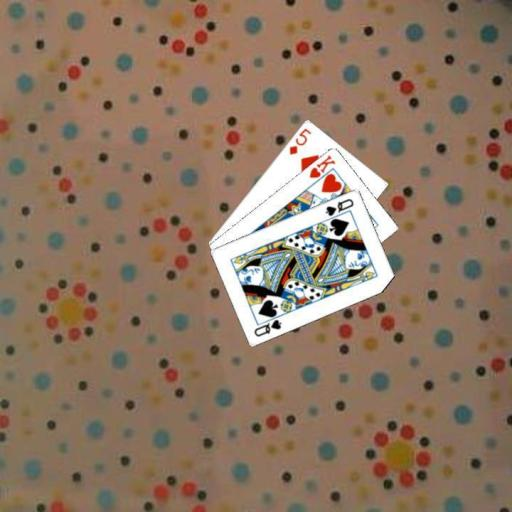card-corner: (286, 124, 313, 156), (306, 152, 337, 179), (322, 194, 355, 218), (251, 316, 283, 338)
